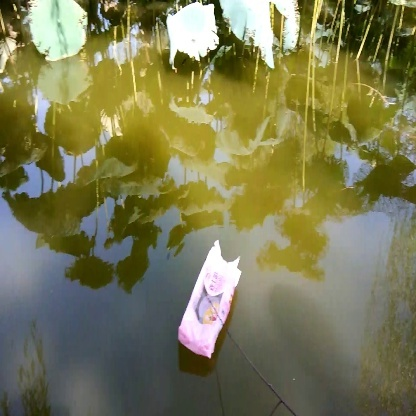plastic-bag: (175, 235, 245, 364)
